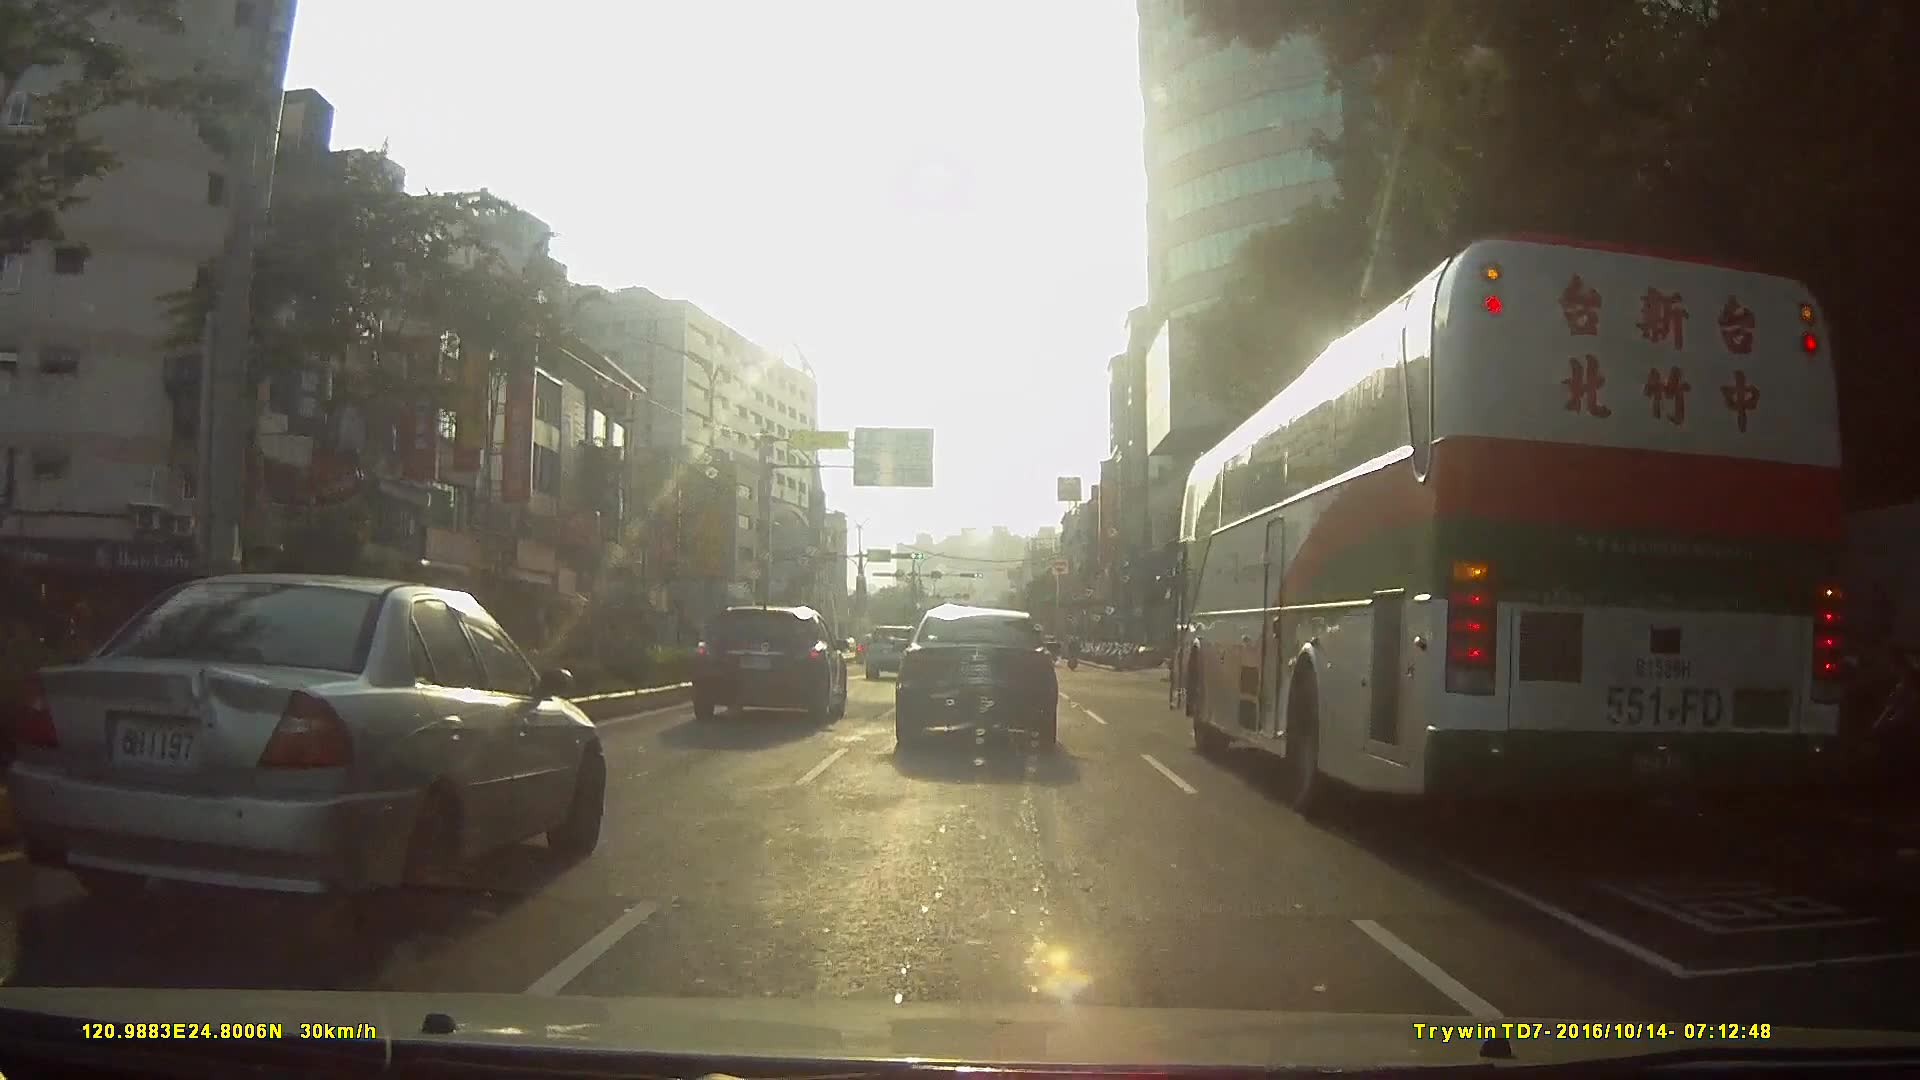vehicle: (1178, 189, 1920, 837), (0, 568, 604, 940), (891, 603, 1058, 752), (691, 603, 848, 721), (861, 624, 920, 682)
